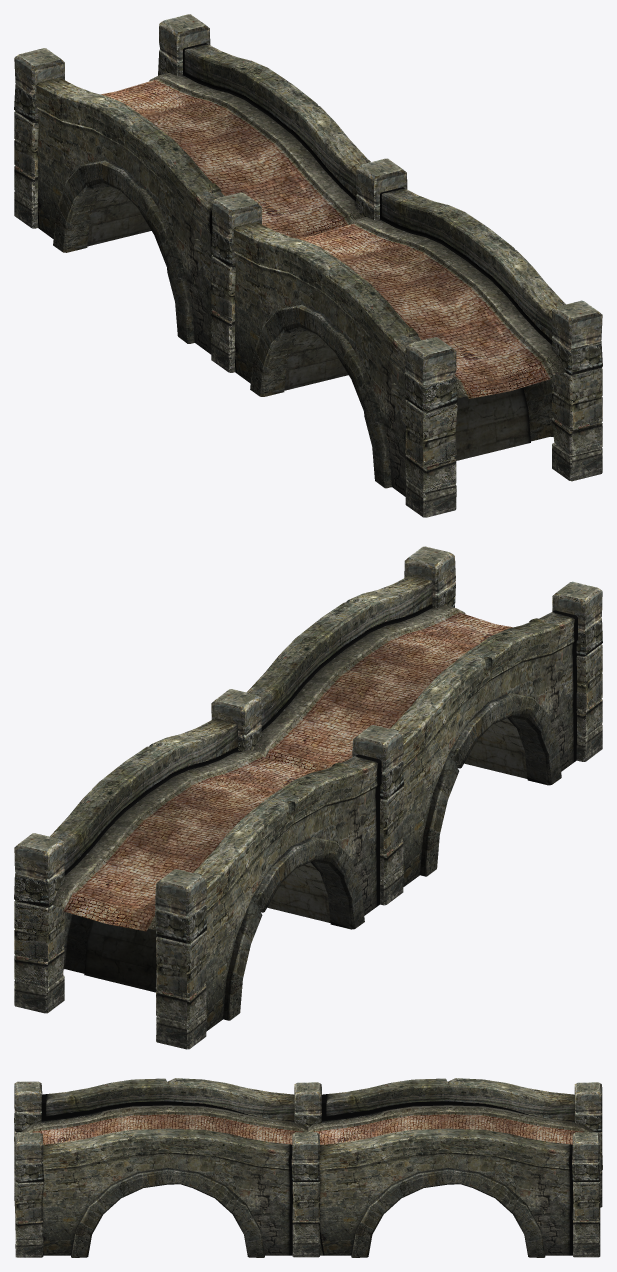
File: bridge_04_small.fbx
3 renders of one model, top to bottom at view 1: azimuth 30°, elevation 25°; view 2: azimuth 150°, elevation 25°; view 3: azimuth 270°, elevation 25°, orthographic. The views are drawn at different scales.
Visible parts, largest first — view 1: bridge_04_small; view 2: bridge_04_small; view 3: bridge_04_small.
Part boxes in pixels (x1,y1,x2,y2): bridge_04_small: [14, 14, 602, 517]; bridge_04_small: [14, 546, 602, 1049]; bridge_04_small: [14, 1078, 602, 1257].
Bounding box in the file's own units: 457 × 405 × 1803.
